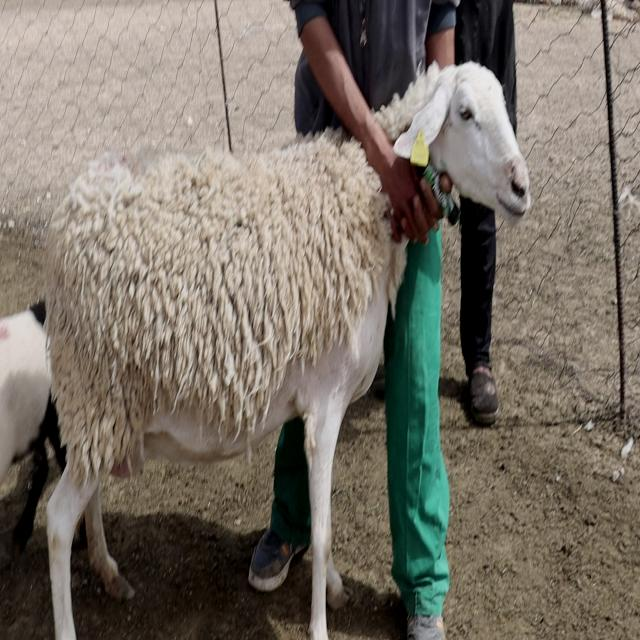Score_4: (45, 133, 408, 639)
